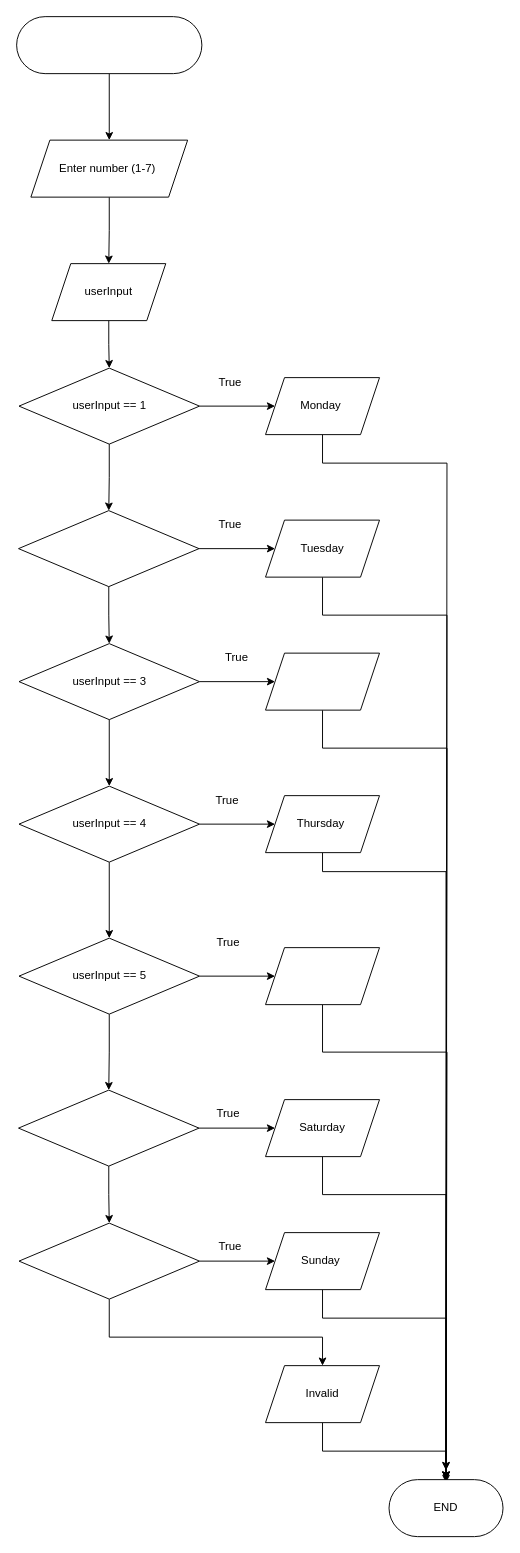
Image size: 520x1553. Some labels were removed from this diagram. The shapes that lost their labels are listed below. From the top down, each one's box as (x1, y1, x2, y2) in pixels, then its label:
(16, 16, 202, 74): Day of the Week
(18, 510, 199, 587): userInput == 2
(265, 652, 380, 710): Wednesday
(265, 947, 380, 1005): Friday
(18, 1089, 199, 1166): userInput == 6
(18, 1222, 200, 1299): userInput == 7
